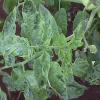Tomato leaf mosaic virus: (49, 60, 70, 99), (4, 33, 32, 58), (34, 50, 50, 90), (68, 17, 88, 49), (39, 4, 53, 45), (24, 1, 37, 38), (62, 51, 73, 84), (72, 59, 91, 76), (59, 33, 66, 48), (16, 76, 25, 86)
